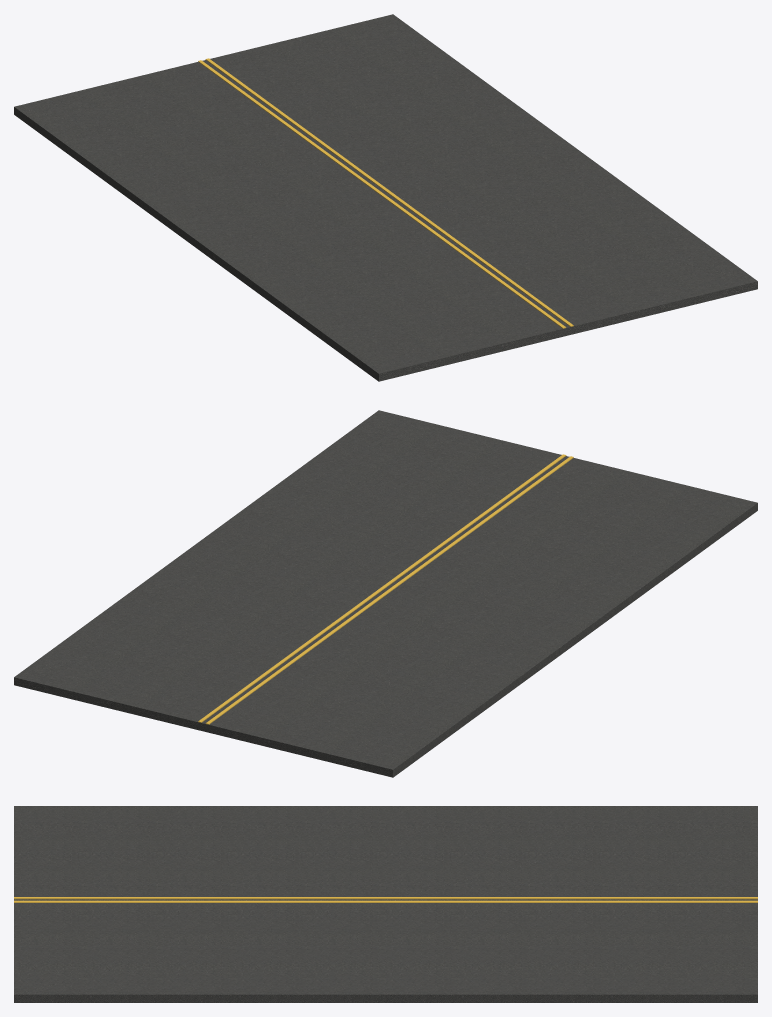
The model's file is street_20m.glb.
The picture shows the model from 3 angles, top to bottom: view 1: azimuth 30°, elevation 25°; view 2: azimuth 150°, elevation 25°; view 3: azimuth 270°, elevation 25°; orthographic projection.
Visible parts, largest first — view 1: street_20m; view 2: street_20m; view 3: street_20m.
Part boxes in pixels (bbox=[...]): street_20m: bbox=[14, 14, 757, 381]; street_20m: bbox=[14, 410, 757, 777]; street_20m: bbox=[14, 806, 757, 1002].
Size of the model in its own units: 12 by 0.2665 by 20.
